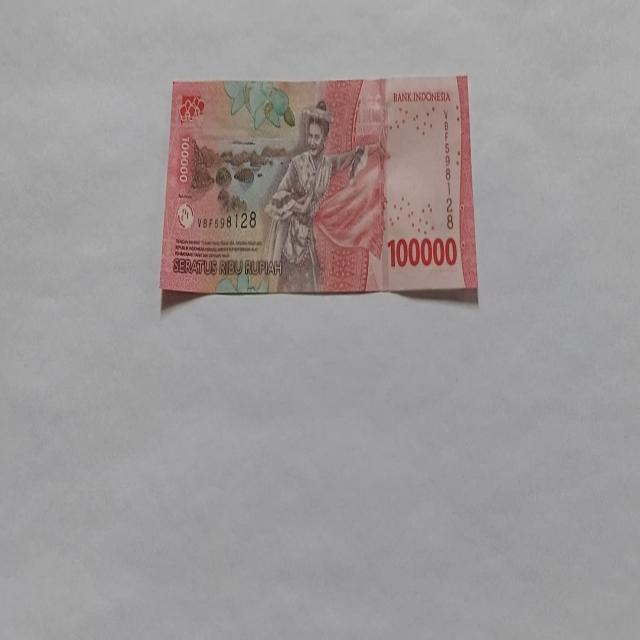seratus ribu rupiah: (158, 76, 478, 300), (260, 99, 370, 294)
